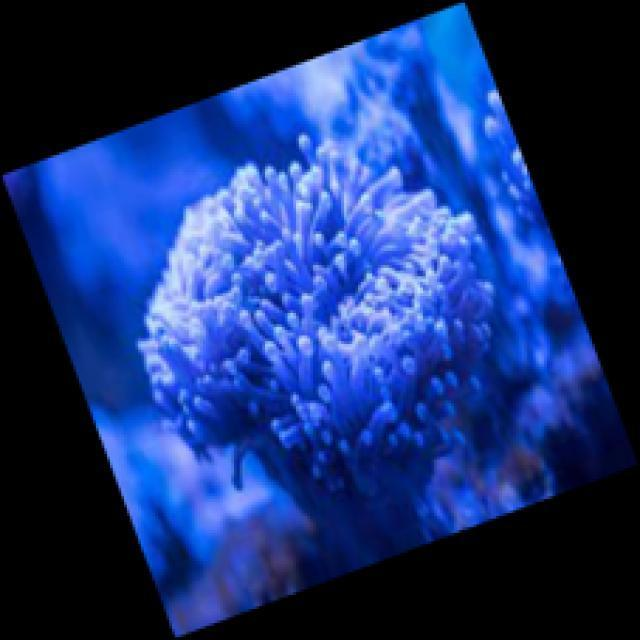Healthy: (140, 128, 500, 491)
